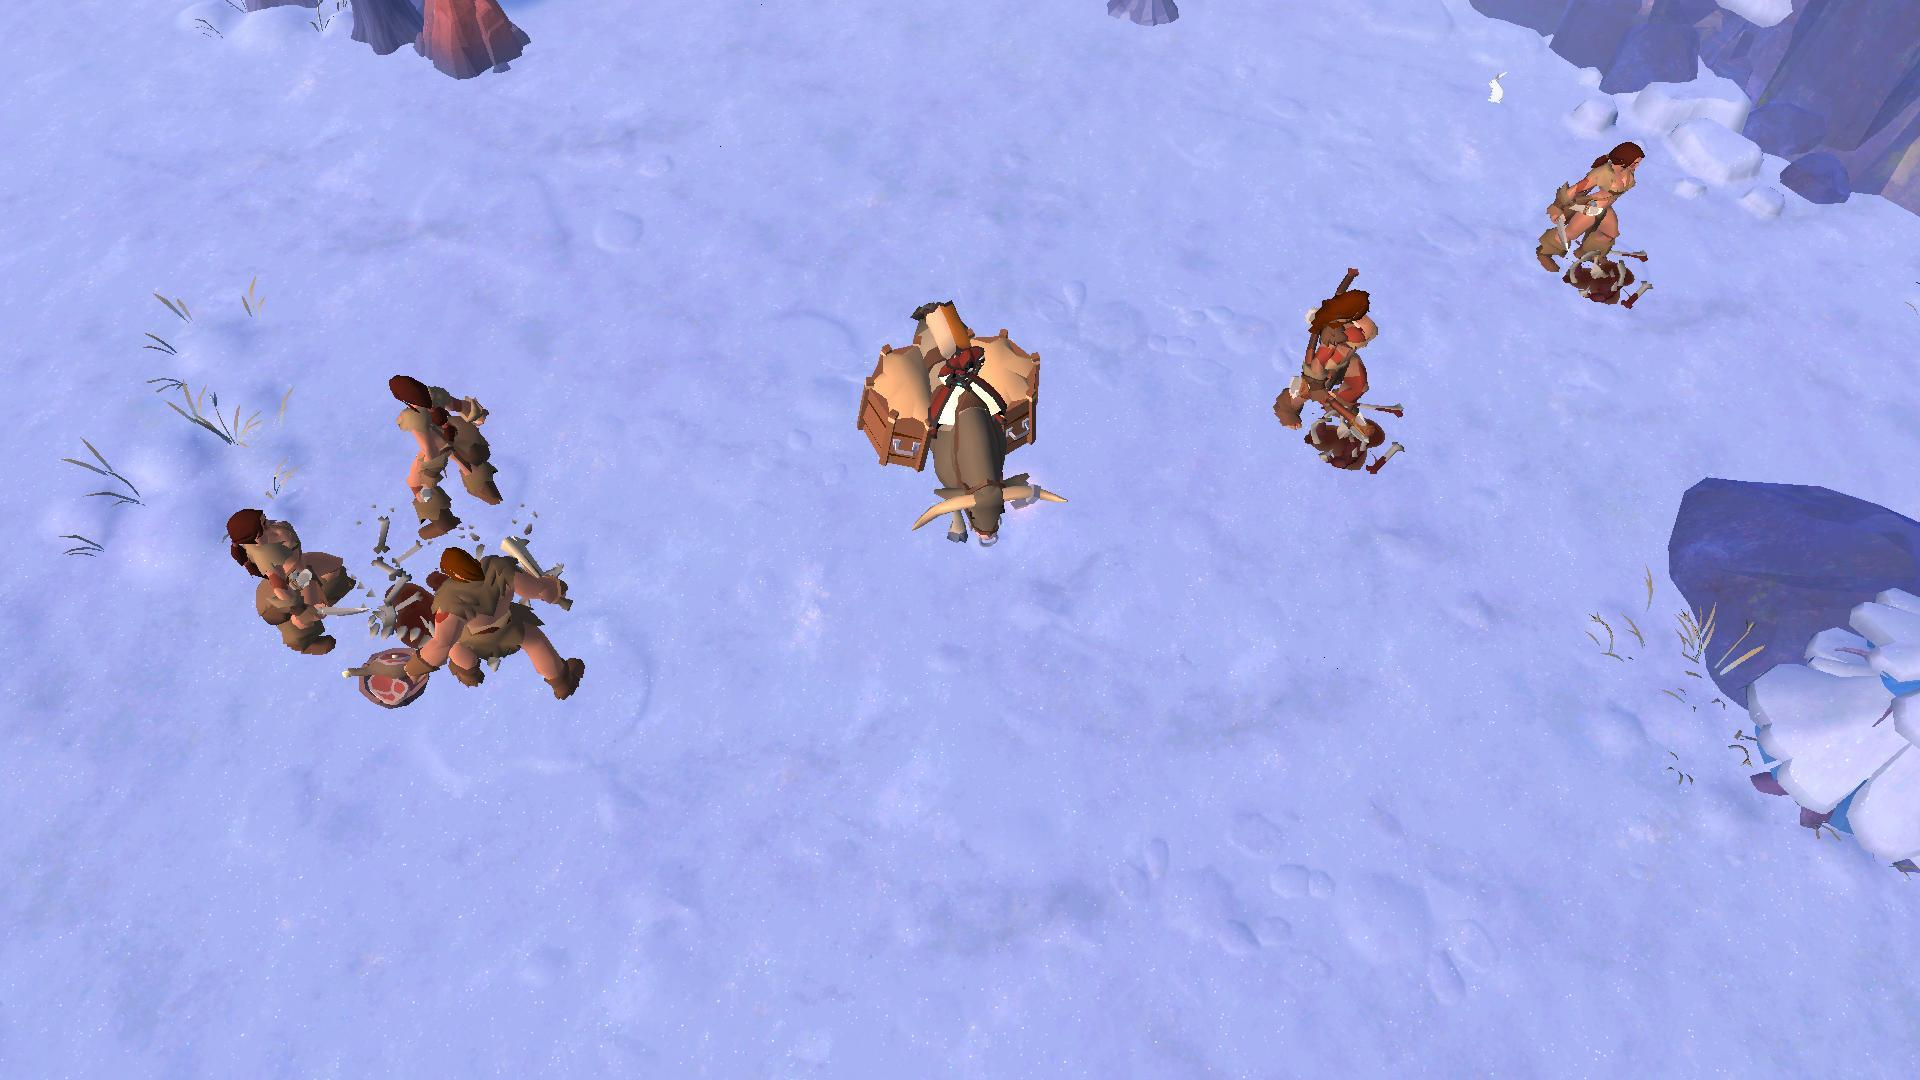enemy_factionKeeper: (406, 547, 601, 708), (220, 489, 355, 675), (394, 372, 529, 541), (1524, 135, 1650, 277), (1278, 274, 1382, 434)
rock_t5: (421, 0, 531, 87)
